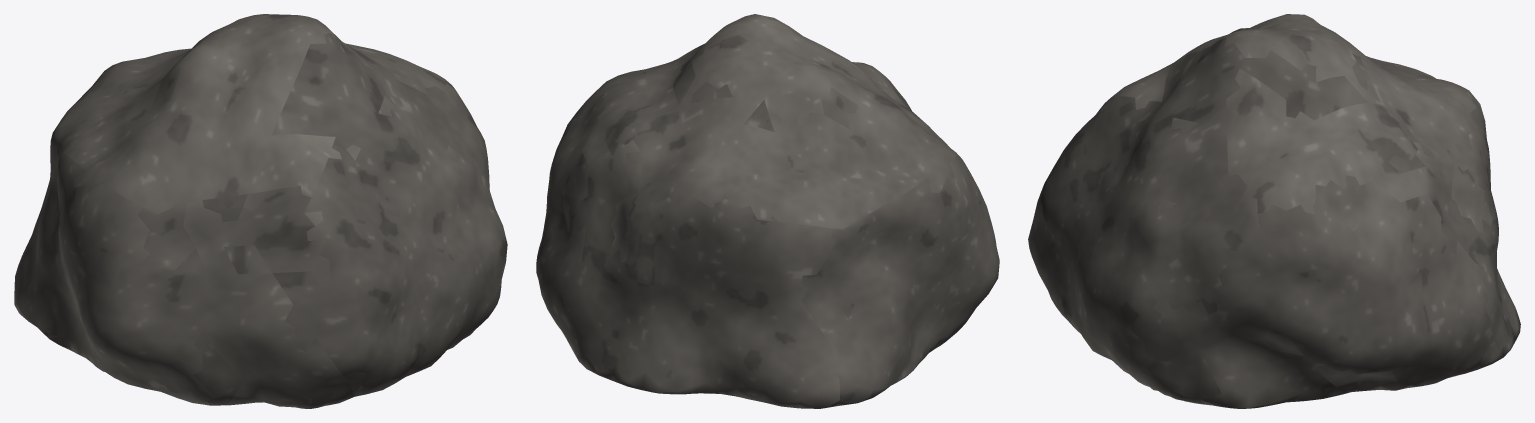
The model's file is rock_hazard_b.glb.
3 views of the same model, side by side, from view 1: azimuth 30°, elevation 25°; view 2: azimuth 150°, elevation 25°; view 3: azimuth 270°, elevation 25° (orthographic). The views are drawn at different scales.
Parts seen in each view (by area): view 1: rock_hazard_b; view 2: rock_hazard_b; view 3: rock_hazard_b.
Part boxes in pixels (x1,y1,x2,y2): rock_hazard_b: (14,14,507,408); rock_hazard_b: (536,14,999,408); rock_hazard_b: (1028,14,1520,408).
Bounding box in the file's own units: 1.79 × 1.26 × 1.84.
Materials: 1 (1 with a texture image).
